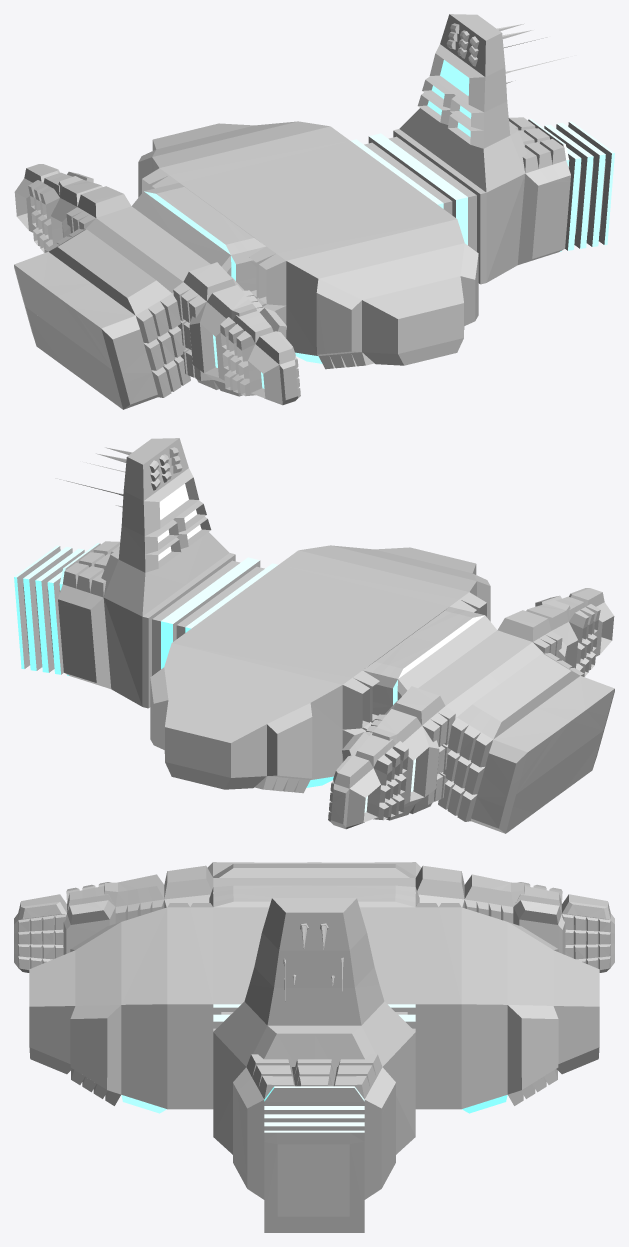
File: spaceship.fbx
3 views of the same model, one above another, from view 1: azimuth 30°, elevation 25°; view 2: azimuth 150°, elevation 25°; view 3: azimuth 270°, elevation 25° (orthographic). The views are drawn at different scales.
Visible parts, largest first — view 1: Spaceship; view 2: Spaceship; view 3: Spaceship.
Part boxes in pixels (x1,y1,x2,y2): Spaceship: (14,14,614,409); Spaceship: (14,438,614,833); Spaceship: (14,862,614,1232).
Bounding box in the file's own units: 550 × 255 × 460.
